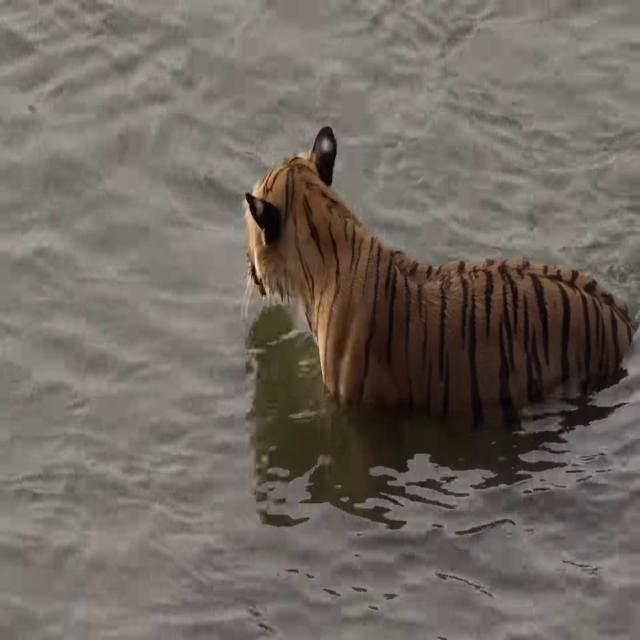tiger: (239, 120, 640, 432)
